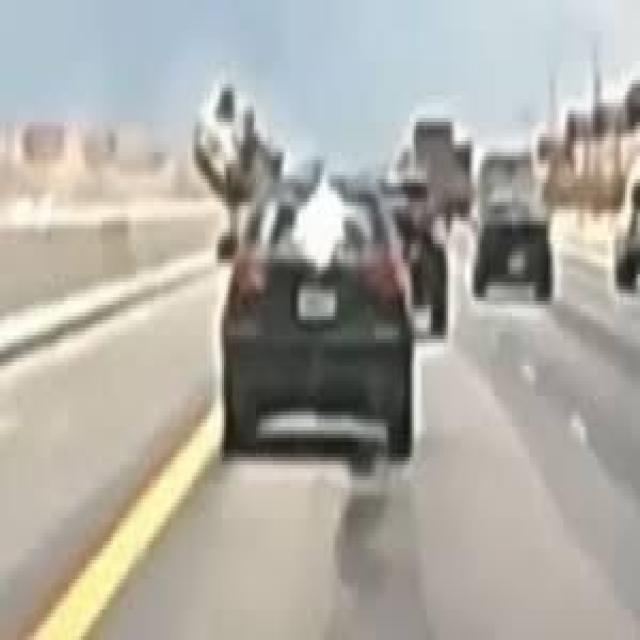severe: (190, 62, 290, 208)
